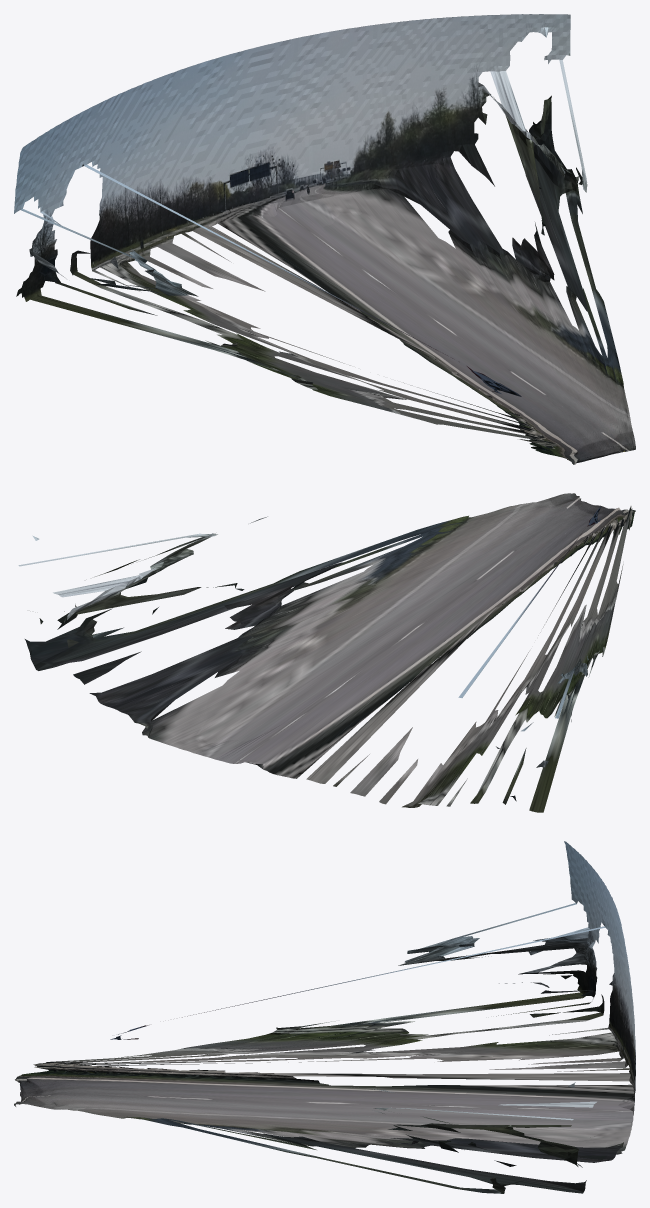
The picture shows the model from 3 angles, top to bottom: view 1: azimuth 30°, elevation 25°; view 2: azimuth 150°, elevation 25°; view 3: azimuth 270°, elevation 25°; orthographic projection. The views are drawn at different scales.
Parts seen in each view (by area): view 1: defaultobject; view 2: defaultobject; view 3: defaultobject.
Part boxes in pixels (box(x1,y1,x2,y2)): defaultobject: box(14, 14, 635, 464); defaultobject: box(18, 493, 635, 812); defaultobject: box(14, 841, 635, 1193).
Size of the model in its own units: 40.95 by 13.05 by 44.68.
Materials: 1 (1 with a texture image).
